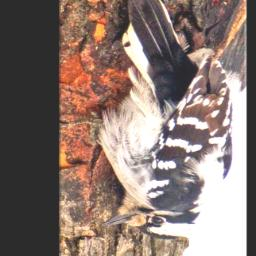Woodpecker: (61, 0, 243, 244)
